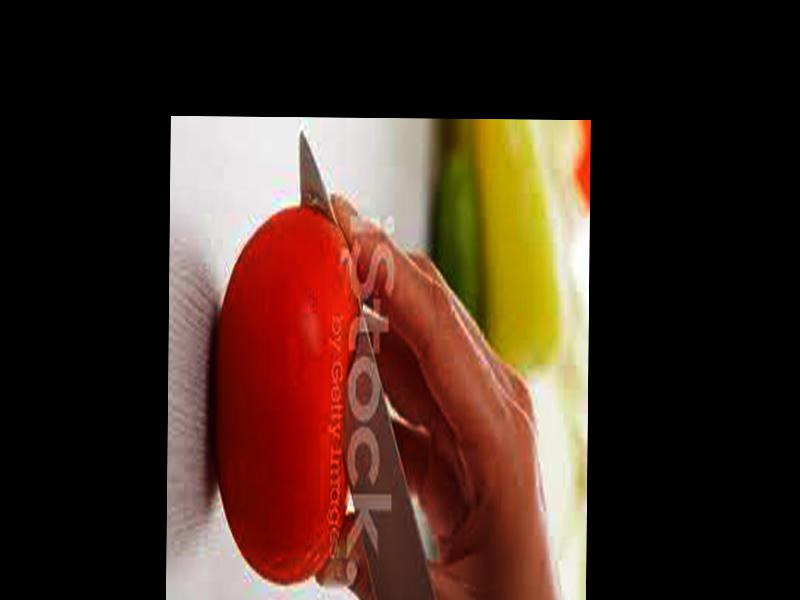Tomato: (208, 205, 358, 589)
